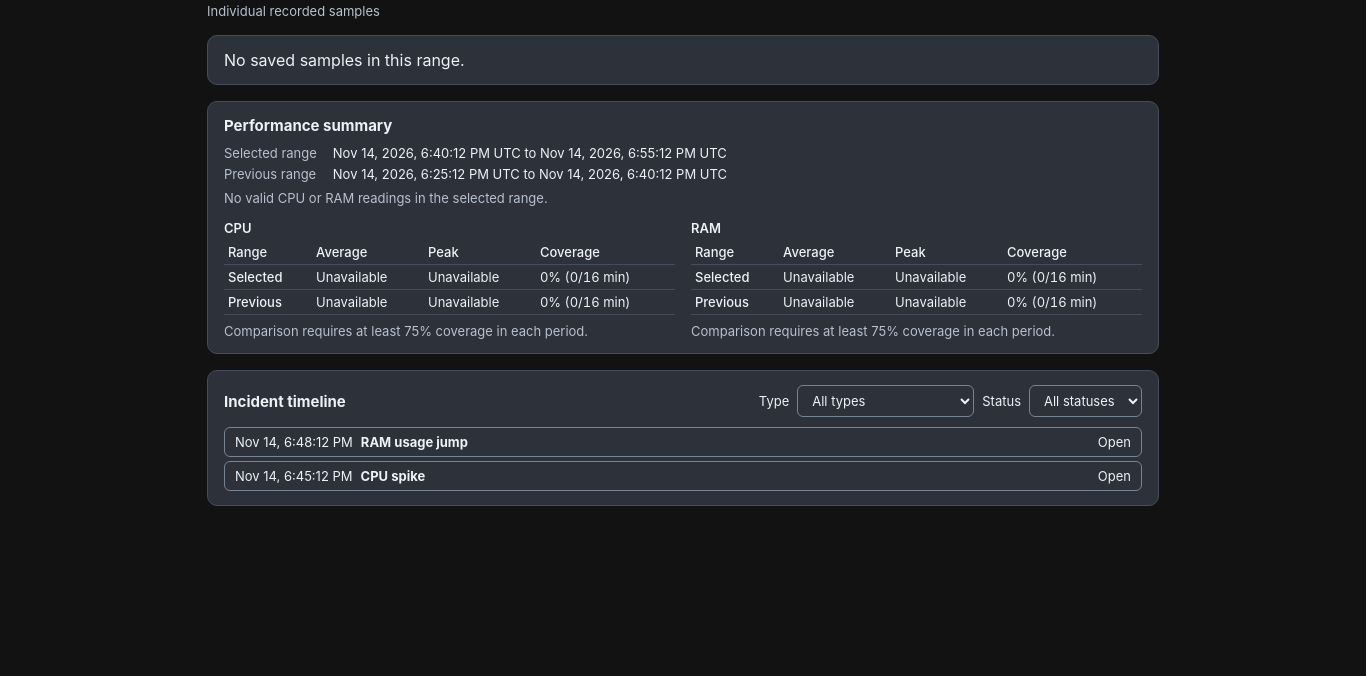
Test: switching incidents discards an obsolete chart response and renders gaps in the current charts
Check: the text "No valid CPU or RAM readings in the selected range." is shown, box [224,190,548,206]
Click the button with aria-label "CPU spike, Open" at (294, 476), box [224,461,1142,491]
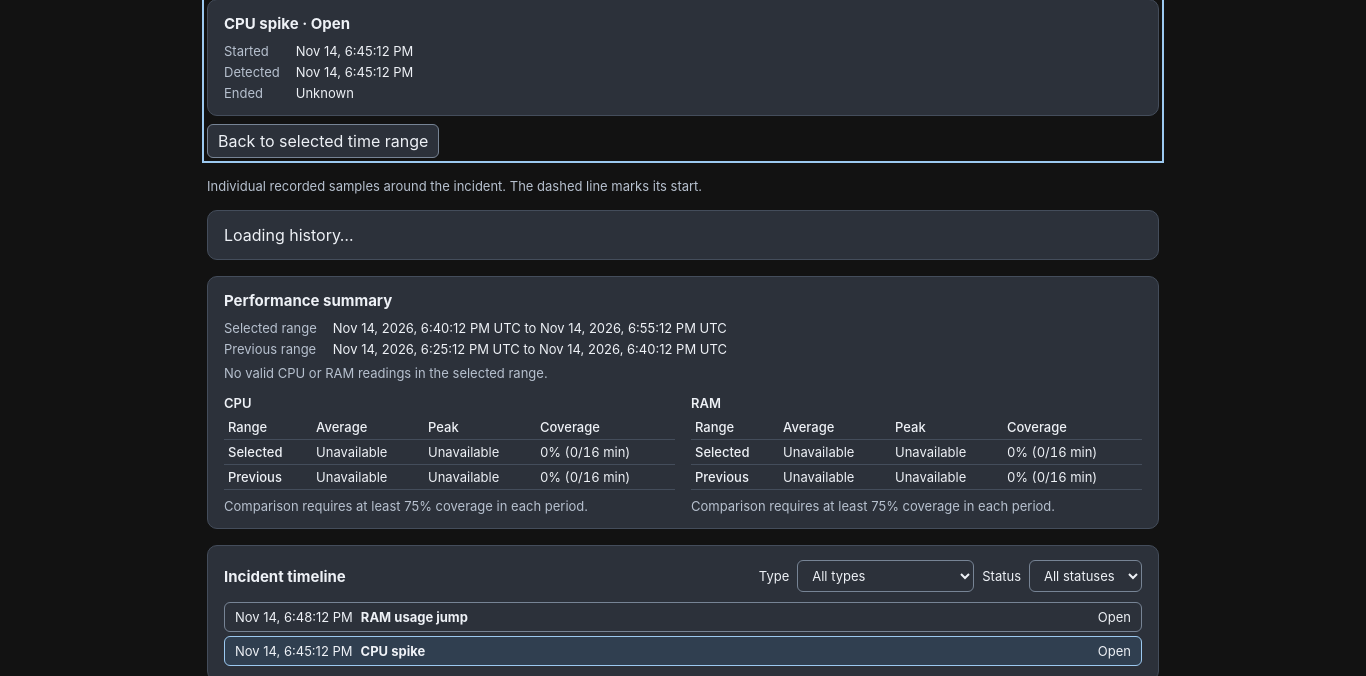
Click the button with aria-label "RAM usage jump, Open" at (294, 617), box [224,602,1142,632]
(page scrolled)
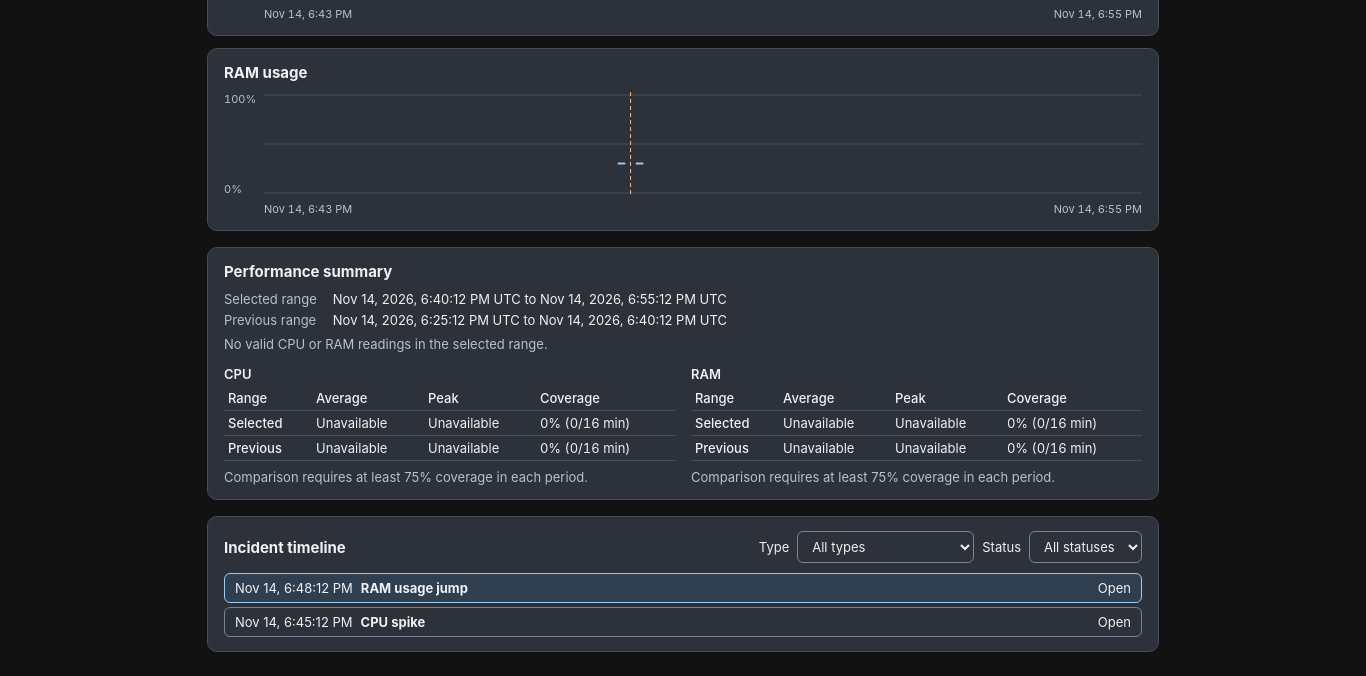
Select "Sustained CPU usage" in the dropdown labelled "Type" at (886, 547), box [797,531,974,563]
(page scrolled)
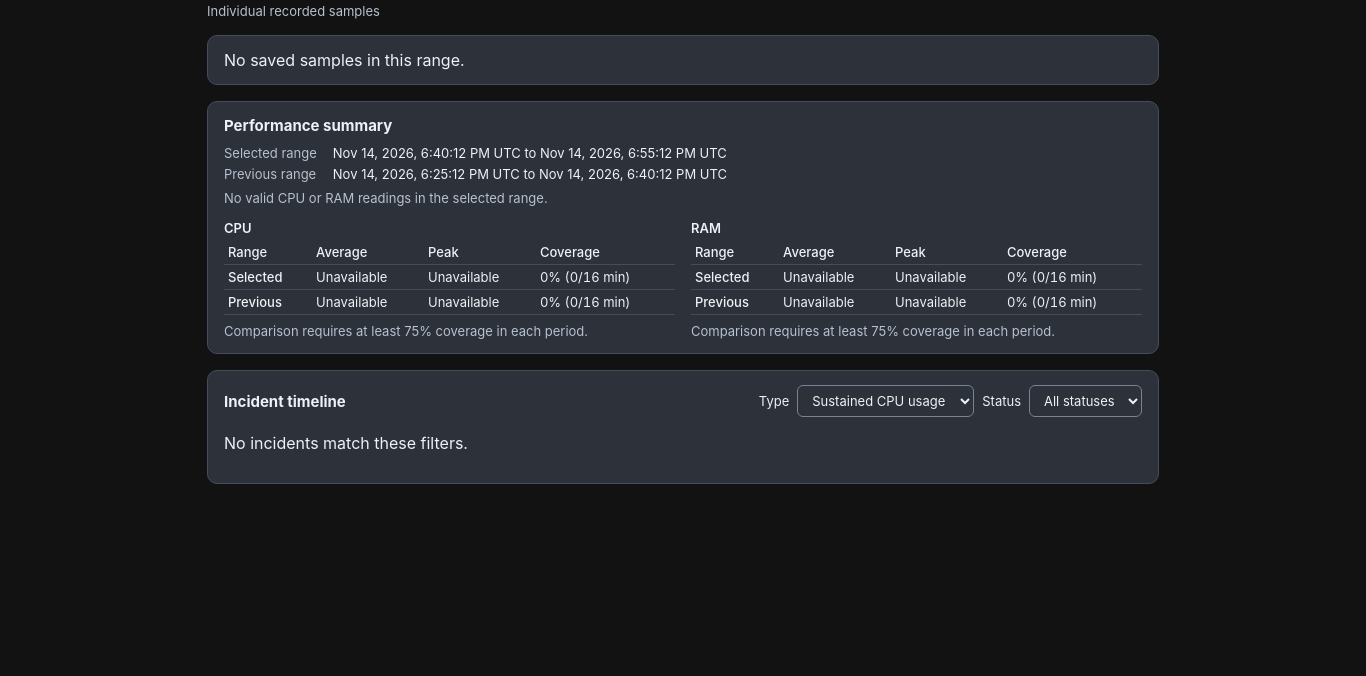
Check: the text "No incidents match these filters." is shown, box [224,433,468,453]
Check: the text "No saved samples in this range." is shown, box [207,35,1159,85]
